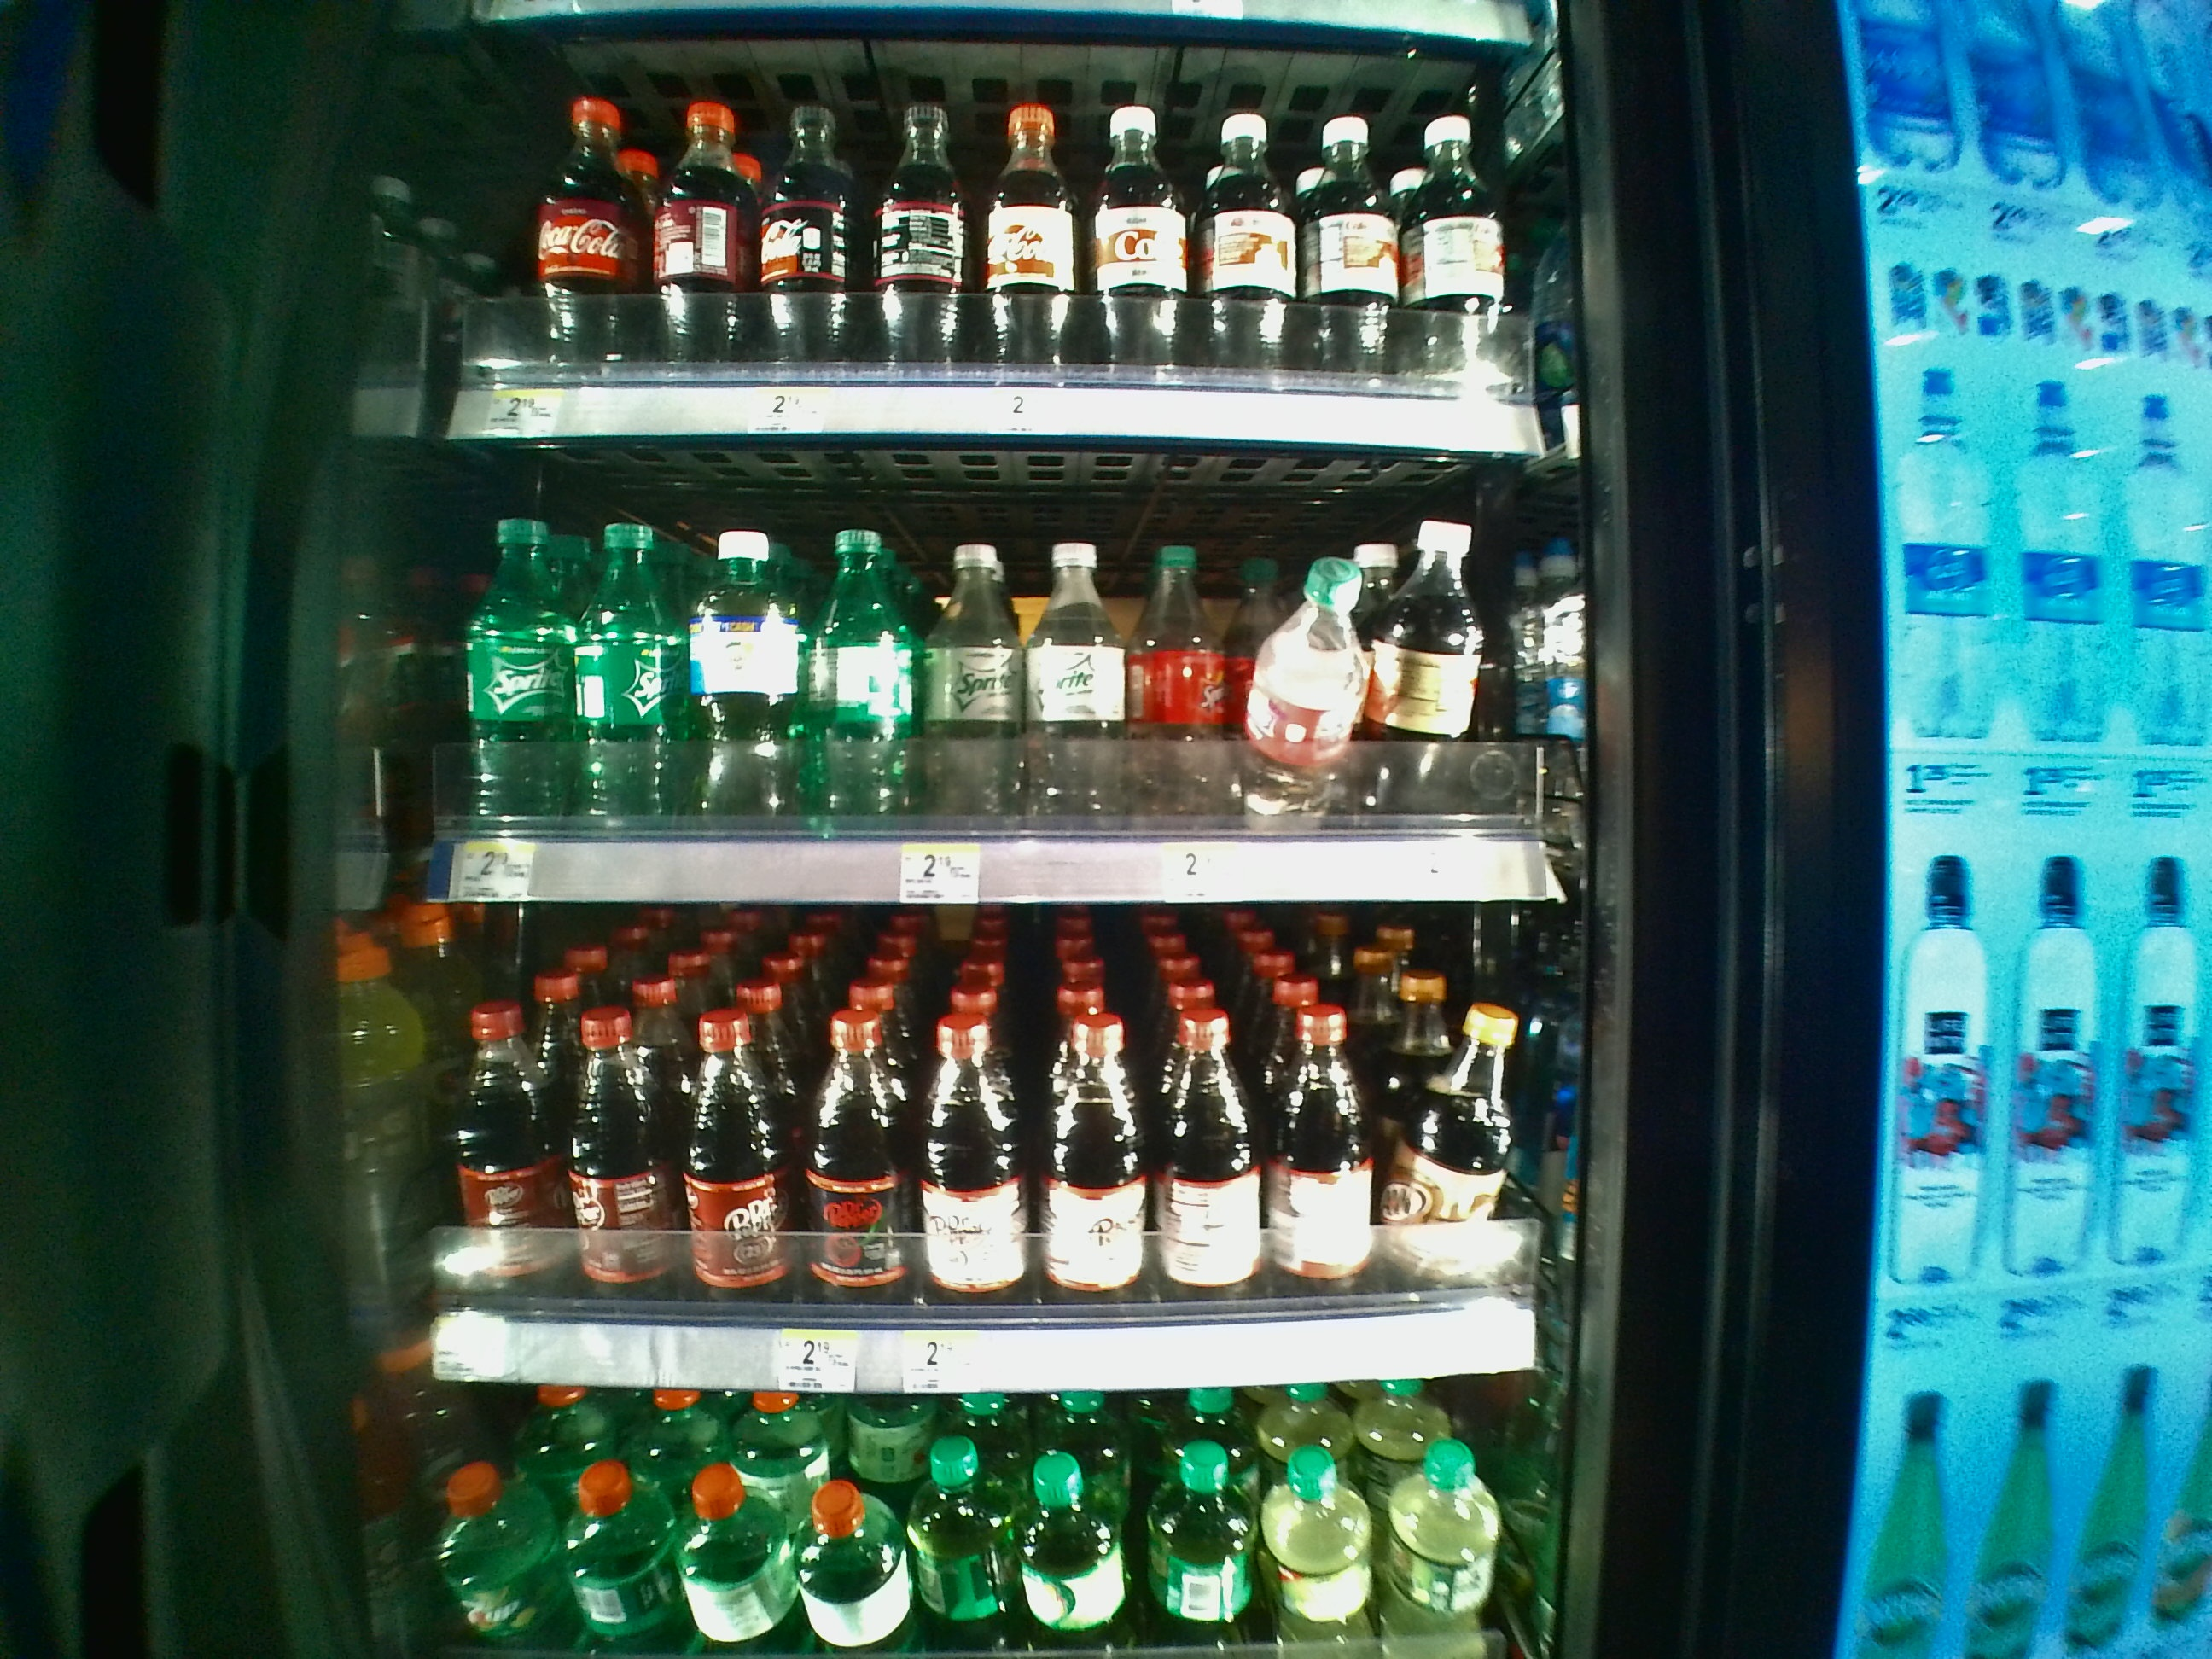Shelf: (404, 904, 1578, 1399), (404, 437, 1578, 904)
